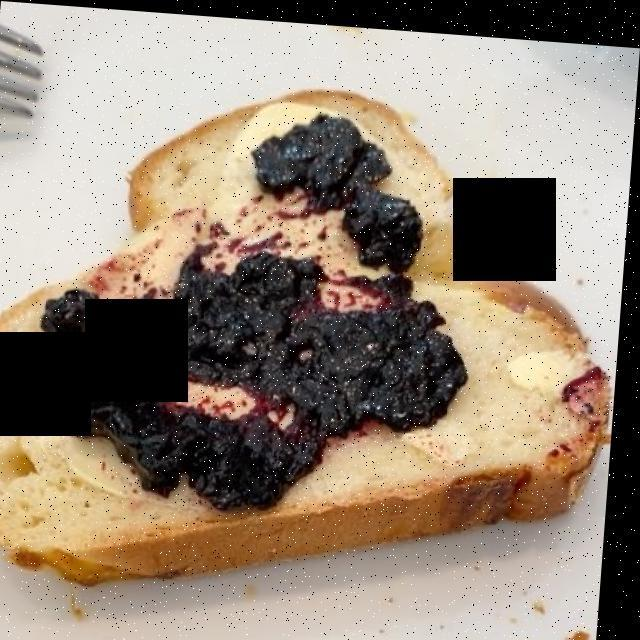bread: (0, 83, 605, 549)
butter: (61, 91, 327, 493)
jam: (57, 92, 467, 528)
